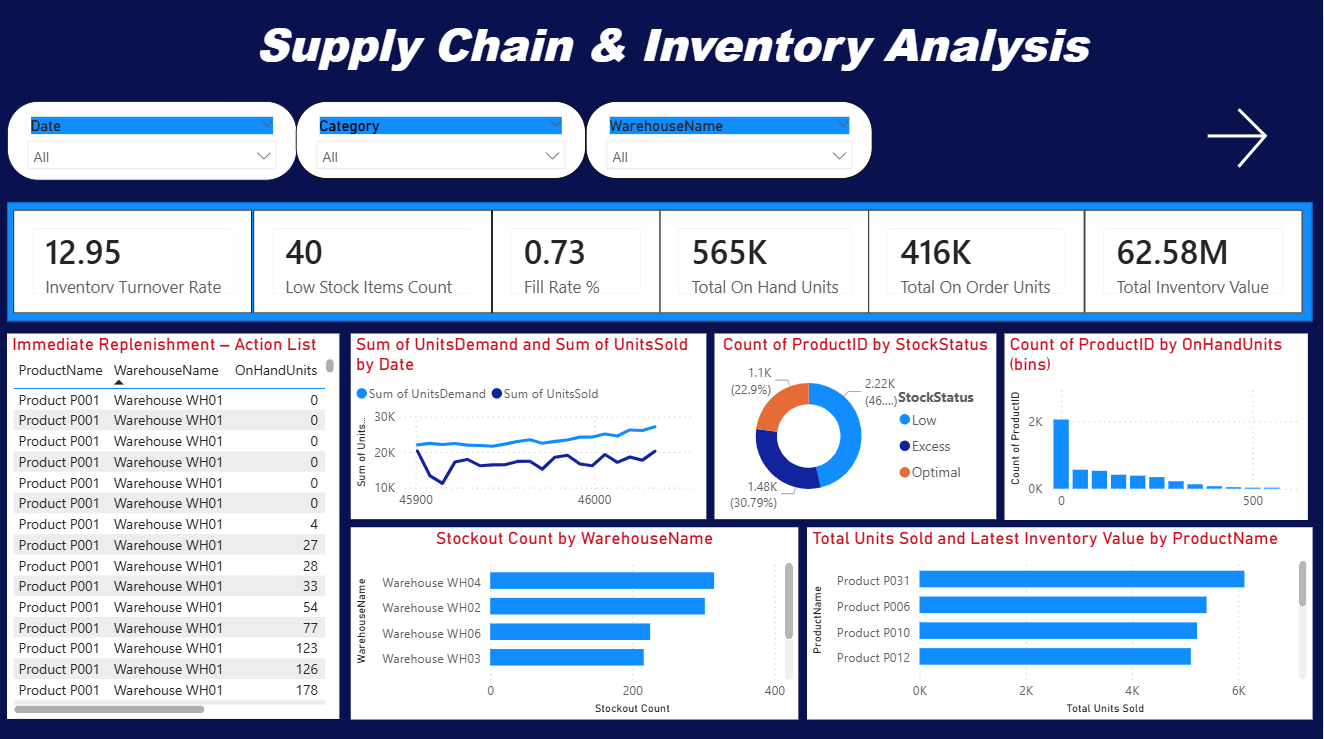

What the dashboard file says about the page in this screenshot:
{"tool":"powerbi","page":{"name":"Page 1","canvas":[1280,720],"ordinal":0},"visuals":[{"type":"shape","box":[10,198.8,1260,115],"z":0},{"type":"slicer","fields":{"Values":["DimDate.Date"]},"box":[9.6,101.5,279.9,76.8],"z":1000},{"type":"slicer","fields":{"Values":["DimWarehouse.WarehouseName"]},"box":[568.1,101.5,277.2,75.5],"z":2000},{"type":"slicer","fields":{"Values":["DimProduct.Category"]},"box":[288.2,101.5,279.9,75.5],"z":3000},{"type":"cardVisual","fields":{"Data":["FactInventorySnapshot.Total Inventory Value"]},"box":[1050,206.2,210,100],"z":4000},{"type":"cardVisual","fields":{"Data":["FactInventorySnapshot.Total On Hand Units"]},"box":[640,206.2,205,100],"z":5000},{"type":"cardVisual","fields":{"Data":["FactInventorySnapshot.Total On Order Units"]},"box":[841.2,206.2,208.8,100],"z":6000},{"type":"cardVisual","fields":{"Data":["FactInventorySnapshot.Low Stock Items Count"]},"box":[247.5,206.2,230,100],"z":7000},{"type":"cardVisual","fields":{"Data":["FactSales.Fill Rate %"]},"box":[477.5,206.2,162.5,100],"z":8000},{"type":"cardVisual","fields":{"Data":["FactSales.Inventory Turnover Rate"]},"box":[16.2,206.2,230,100],"z":9000},{"type":"donutChart","fields":{"Category":["FactInventorySnapshot.Stock Status"],"Y":["CountNonNull(FactInventorySnapshot.ProductID)"]},"box":[692.2,325.6,272.2,178.9],"z":10000},{"type":"clusteredBarChart","title":"         Stockout Count by WarehouseName","fields":{"Category":["DimWarehouse.WarehouseName"],"Y":["FactInventorySnapshot.Stockout Count"]},"box":[341.1,512.2,432.2,185.6],"z":11000},{"type":"clusteredColumnChart","fields":{"Category":["FactInventorySnapshot.OnHandUnits (bins)"],"Y":["CountNonNull(FactInventorySnapshot.ProductID)"]},"box":[972.7,325.3,292.7,180],"z":12000},{"type":"tableEx","title":"Immediate Replenishment – Action List","fields":{"Values":["DimProduct.ProductName","DimWarehouse.WarehouseName","FactInventorySnapshot.OnHandUnits","FactInventorySnapshot.OnOrderUnits","FactInventorySnapshot.InventoryValue"]},"box":[10,325.6,321.1,372.2],"z":13000},{"type":"clusteredBarChart","fields":{"Category":["DimProduct.ProductName"],"Y":["FactSales.Total Units Sold"]},"box":[782.2,512.2,487.8,185.6],"z":14000},{"type":"lineChart","fields":{"Category":["DimDate.Date"],"Y":["Sum(FactSales.UnitsDemand)","Sum(FactSales.UnitsSold)"]},"box":[341.1,325.6,343.3,178.9],"z":15000},{"type":"textbox","box":[185,0,948.8,101.2],"z":16000},{"type":"actionButton","box":[1160,101.4,100,71.4],"z":17000}]}

Visuals, with their boxes in screenshot pixels (x1, y1, x2, y2), scaled from the page's 1280x720 canvas onto the 1324x739 screenshot:
shape: detection(10, 204, 1314, 322)
slicer - DimDate.Date: detection(10, 104, 299, 183)
slicer - DimWarehouse.WarehouseName: detection(588, 104, 874, 182)
slicer - DimProduct.Category: detection(298, 104, 588, 182)
cardVisual - FactInventorySnapshot.Total Inventory Value: detection(1086, 212, 1303, 314)
cardVisual - FactInventorySnapshot.Total On Hand Units: detection(662, 212, 874, 314)
cardVisual - FactInventorySnapshot.Total On Order Units: detection(870, 212, 1086, 314)
cardVisual - FactInventorySnapshot.Low Stock Items Count: detection(256, 212, 494, 314)
cardVisual - FactSales.Fill Rate %: detection(494, 212, 662, 314)
cardVisual - FactSales.Inventory Turnover Rate: detection(17, 212, 255, 314)
donutChart - FactInventorySnapshot.Stock Status x CountNonNull(FactInventorySnapshot.ProductID): detection(716, 334, 998, 518)
"         Stockout Count by WarehouseName" clusteredBarChart: detection(353, 526, 800, 716)
clusteredColumnChart - FactInventorySnapshot.OnHandUnits (bins) x CountNonNull(FactInventorySnapshot.ProductID): detection(1006, 334, 1309, 519)
"Immediate Replenishment – Action List" tableEx: detection(10, 334, 342, 716)
clusteredBarChart - DimProduct.ProductName x FactSales.Total Units Sold: detection(809, 526, 1314, 716)
lineChart - DimDate.Date x Sum(FactSales.UnitsDemand): detection(353, 334, 708, 518)
textbox: detection(191, 0, 1173, 104)
actionButton: detection(1200, 104, 1303, 177)
